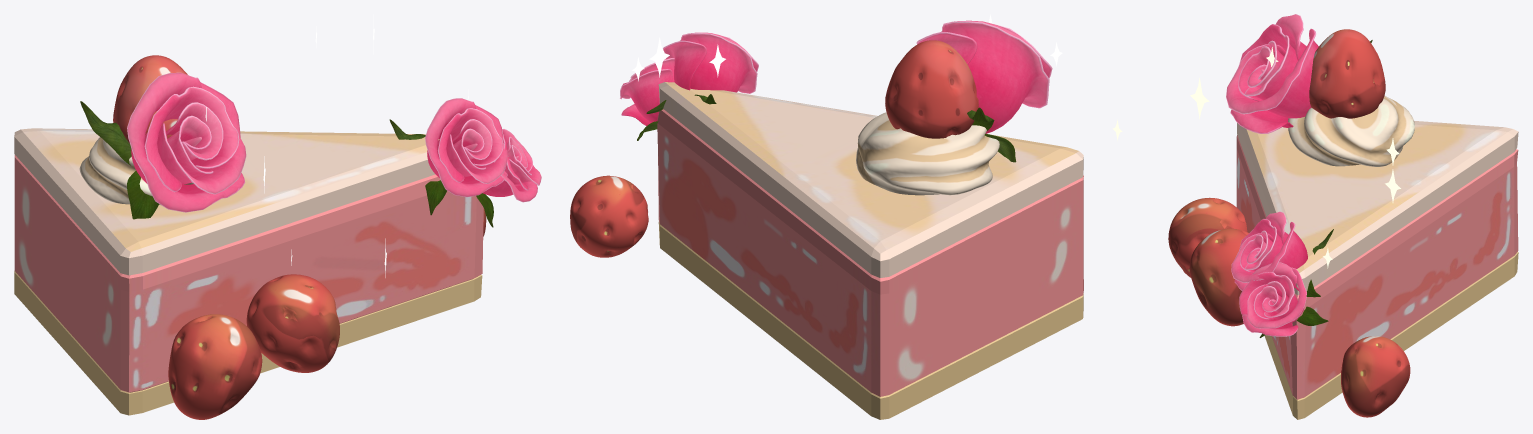
Rendered from vanil_cake1.glb.
3 renders of one model, left to right at view 1: azimuth 30°, elevation 25°; view 2: azimuth 150°, elevation 25°; view 3: azimuth 270°, elevation 25°, orthographic. The views are drawn at different scales.
Visible parts, largest first — view 1: Cube_2, Cube.001_3, Sphere.004_7, Rose_11, Cube.002_4, Rose.002_13, Sphere_5, Rose.001_12, Sphere.001_6; view 2: Cube_2, Cube.001_3, Cube.002_4, Sphere_5, Rose_11, Sphere.001_6, Sphere.004_7, Rose.002_13, Rose.001_12, Plane.005_9; view 3: Cube_2, Cube.001_3, Sphere.004_7, Rose_11, Sphere_5, Sphere.001_6, Cube.002_4, Rose.001_12, Rose.002_13, Plane.005_9.
Boxes of the visible parts, <box> form: Cube_2: <box>14,155,483,392</box>; Cube.001_3: <box>14,128,439,275</box>; Sphere.004_7: <box>168,208,486,419</box>; Rose_11: <box>80,72,246,219</box>; Cube.002_4: <box>14,271,482,415</box>; Rose.002_13: <box>389,98,508,215</box>; Sphere_5: <box>79,137,193,204</box>; Rose.001_12: <box>476,129,541,227</box>; Sphere.001_6: <box>113,55,187,143</box>; Cube_2: <box>657,109,1083,396</box>; Cube.001_3: <box>658,82,1083,277</box>; Cube.002_4: <box>658,221,1083,419</box>; Sphere_5: <box>856,112,999,195</box>; Rose_11: <box>916,20,1052,162</box>; Sphere.001_6: <box>885,40,978,138</box>; Sphere.004_7: <box>570,175,648,257</box>; Rose.002_13: <box>646,32,758,113</box>; Rose.001_12: <box>620,58,674,140</box>; Plane.005_9: <box>632,14,1062,81</box>; Cube_2: <box>1236,135,1518,399</box>; Cube.001_3: <box>1237,121,1518,295</box>; Sphere.004_7: <box>1168,197,1410,417</box>; Rose_11: <box>1226,14,1372,133</box>; Sphere_5: <box>1288,95,1414,166</box>; Sphere.001_6: <box>1309,29,1385,118</box>; Cube.002_4: <box>1264,252,1518,419</box>; Rose.001_12: <box>1239,262,1328,337</box>; Rose.002_13: <box>1231,211,1333,297</box>; Plane.005_9: <box>1112,47,1400,268</box>.
Size of the model in its own units: 0.3462 by 0.2314 by 0.3164.
Materials: 9 (7 with a texture image).
